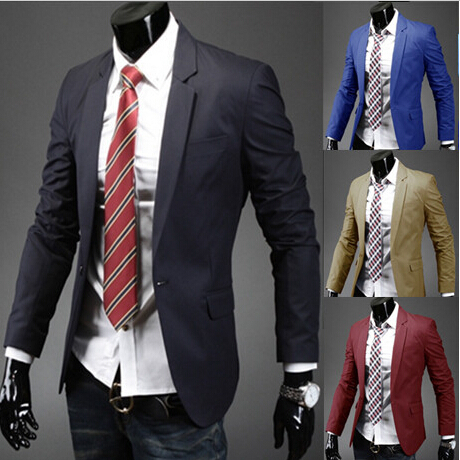F_M_suit jacket: (2, 39, 322, 427), (326, 21, 457, 151), (330, 163, 456, 297), (328, 312, 458, 440)
F_tie: (108, 63, 140, 337), (368, 179, 389, 284), (367, 320, 386, 428), (367, 27, 385, 134)
